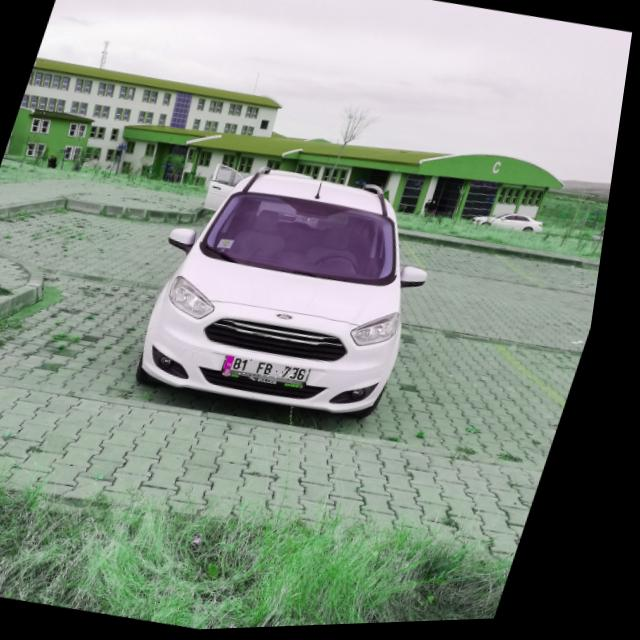license_plate: (230, 355, 324, 391)
